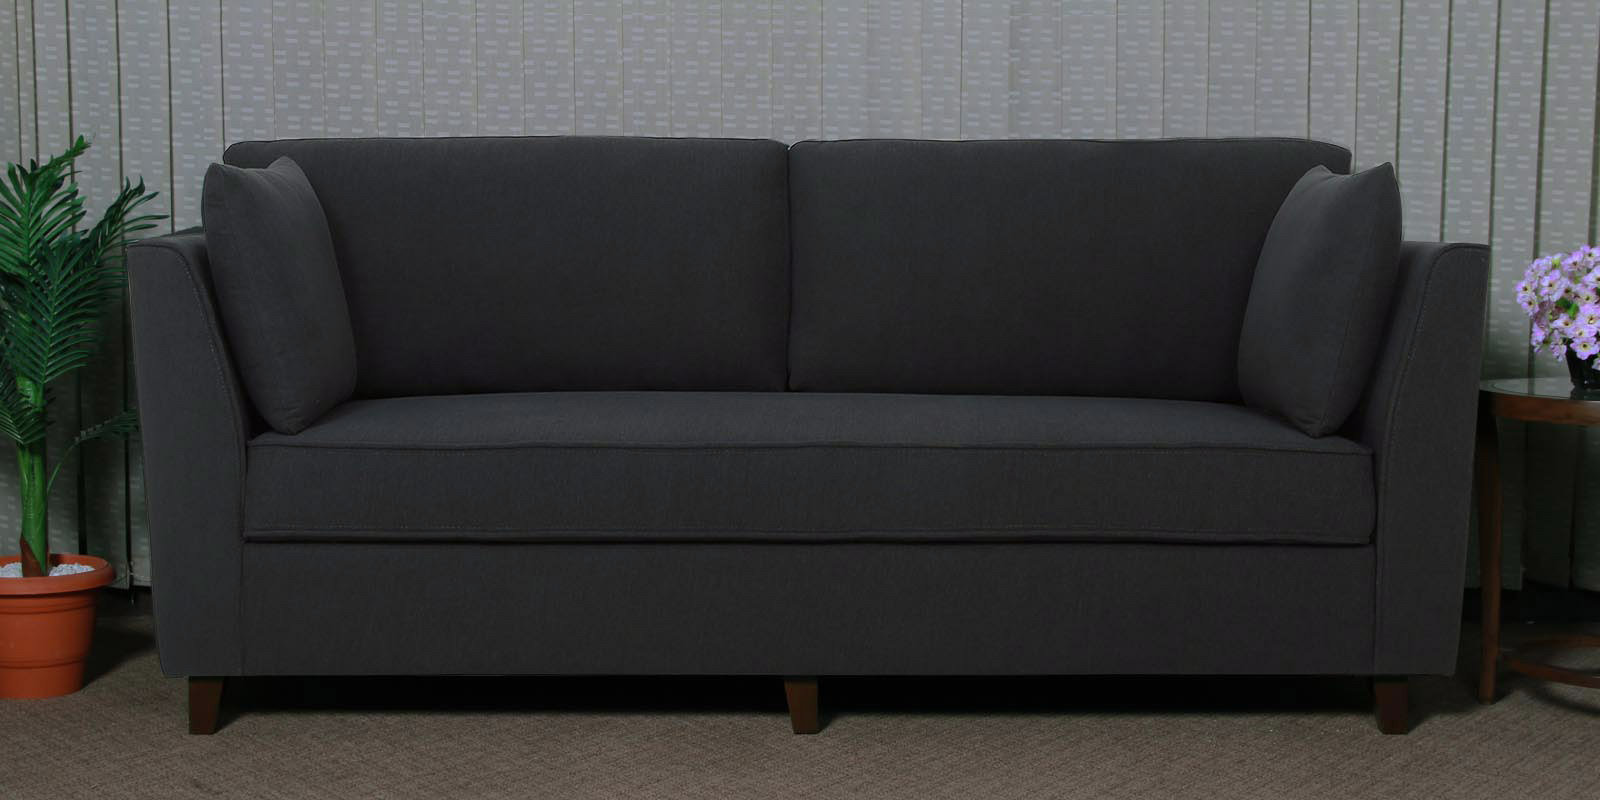Miranda Three Seater Sofa in Charcoal Grey Colour by CasaCraft: (126, 132, 1495, 732)
